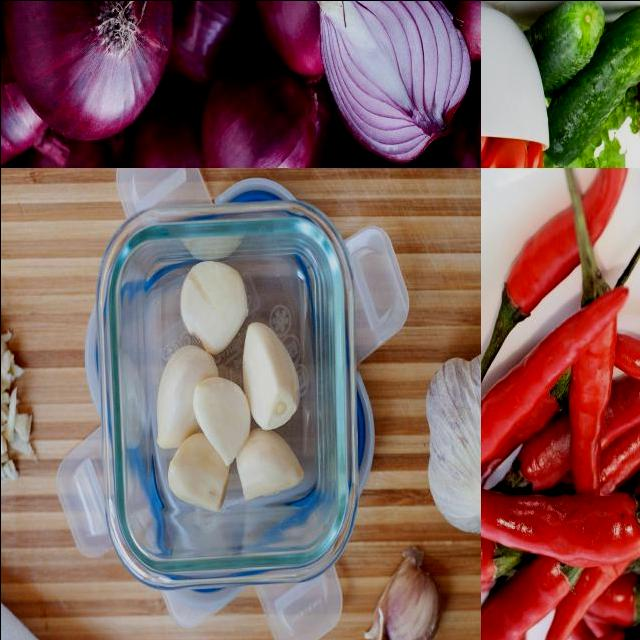cucumber: (539, 3, 595, 80), (556, 92, 607, 156), (598, 22, 640, 78)
garlic: (151, 259, 305, 510), (420, 348, 481, 550), (341, 554, 442, 640)
onion: (321, 1, 472, 166), (6, 1, 171, 138), (176, 55, 319, 168), (1, 7, 56, 168), (130, 93, 234, 168)
tomato: (487, 140, 525, 168)
